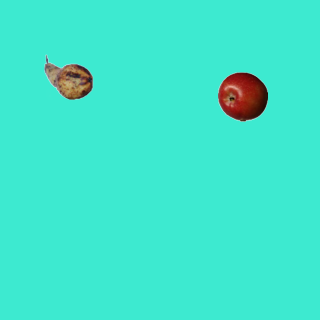Apple Braeburn: (217, 71, 267, 121)
Pear Abate: (43, 52, 93, 102)
